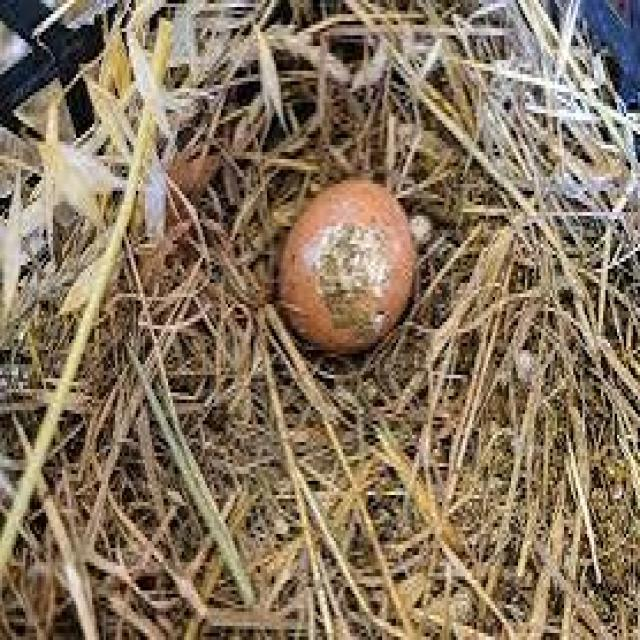Dirt Stained Egg: (266, 169, 426, 352)
